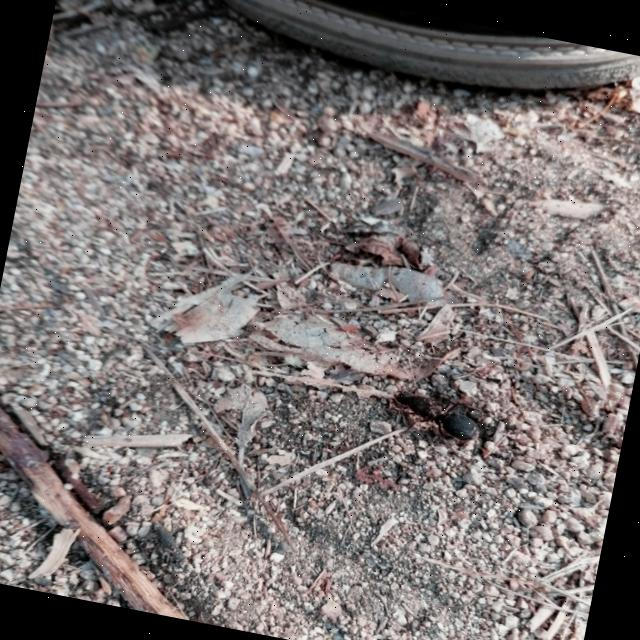Alive-Female-Dealate: (382, 384, 486, 474)
